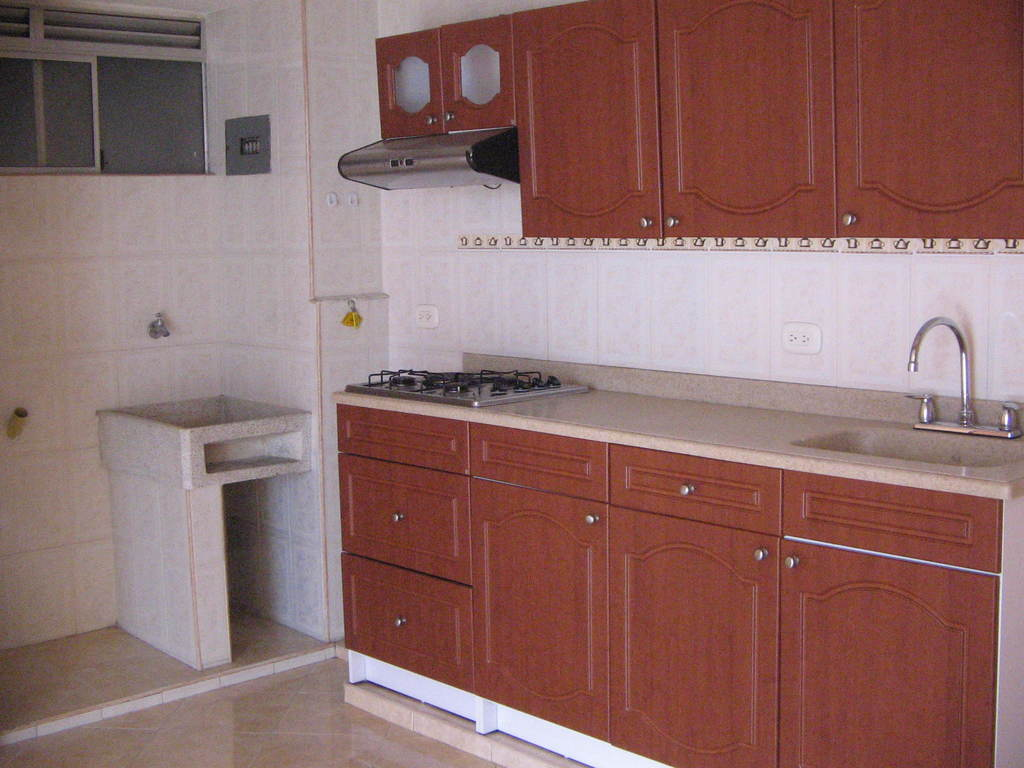cabinet door: (786, 545, 994, 768), (844, 18, 1024, 240), (663, 26, 836, 231), (619, 527, 778, 749), (477, 478, 604, 708), (523, 39, 662, 231), (344, 457, 470, 567), (615, 445, 779, 527), (353, 566, 473, 677), (438, 32, 514, 133), (374, 36, 439, 132)
handle: (390, 601, 419, 643), (745, 539, 774, 572), (441, 96, 462, 132), (675, 479, 700, 507), (783, 548, 806, 578), (387, 502, 409, 532), (637, 211, 660, 239), (840, 208, 862, 237), (662, 212, 686, 234), (583, 507, 600, 535), (419, 110, 440, 132)
